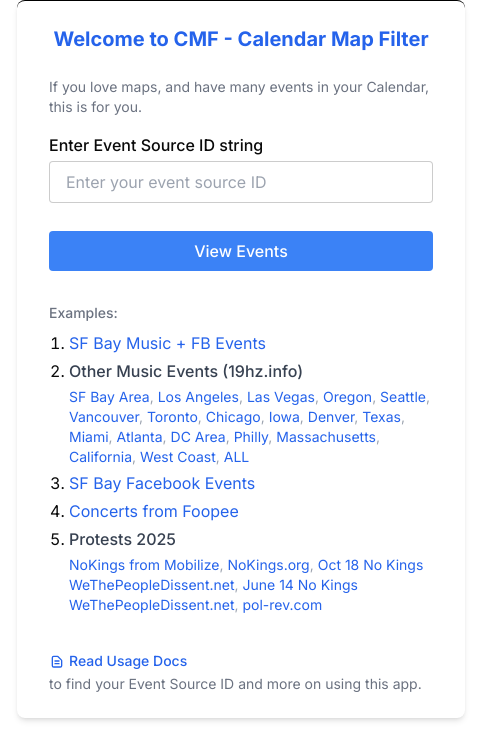
it: EventsSourceSelector › shows loading spinner when submitting and disables inputs
Note: Fill in the event source ID
Type "gc:test@example.com" into the field labelled "Enter Event Source ID string" at (241, 182), box [49,161,433,203]
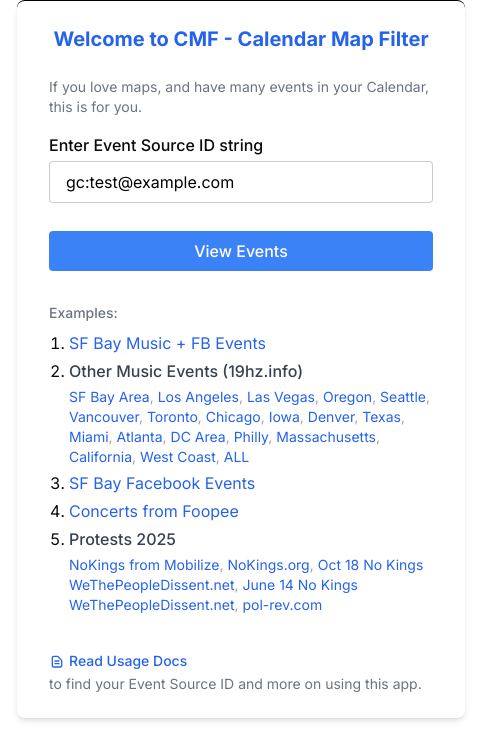
Note: Submit the form
Click the button "View Events" at (241, 251), box [49,231,433,271]
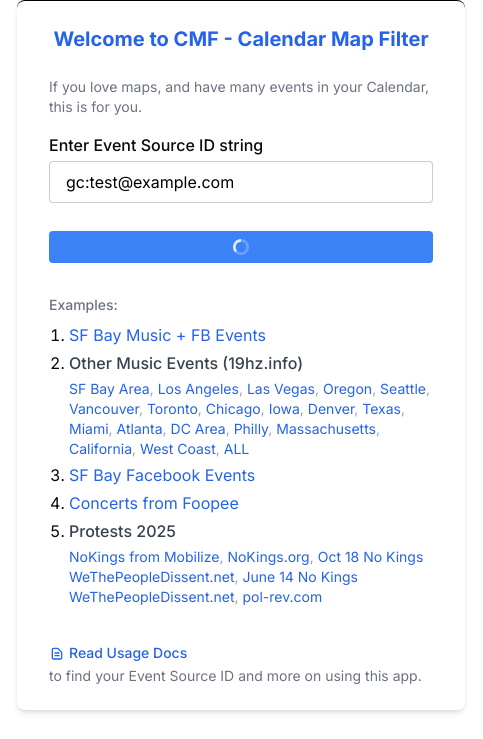
Expected: the field labelled "Enter Event Source ID string" is disabled, [49,161,433,203]
Now the message is shown, box [233,239,249,255]
Now the button "View Events" is disabled, box [49,231,433,263]
